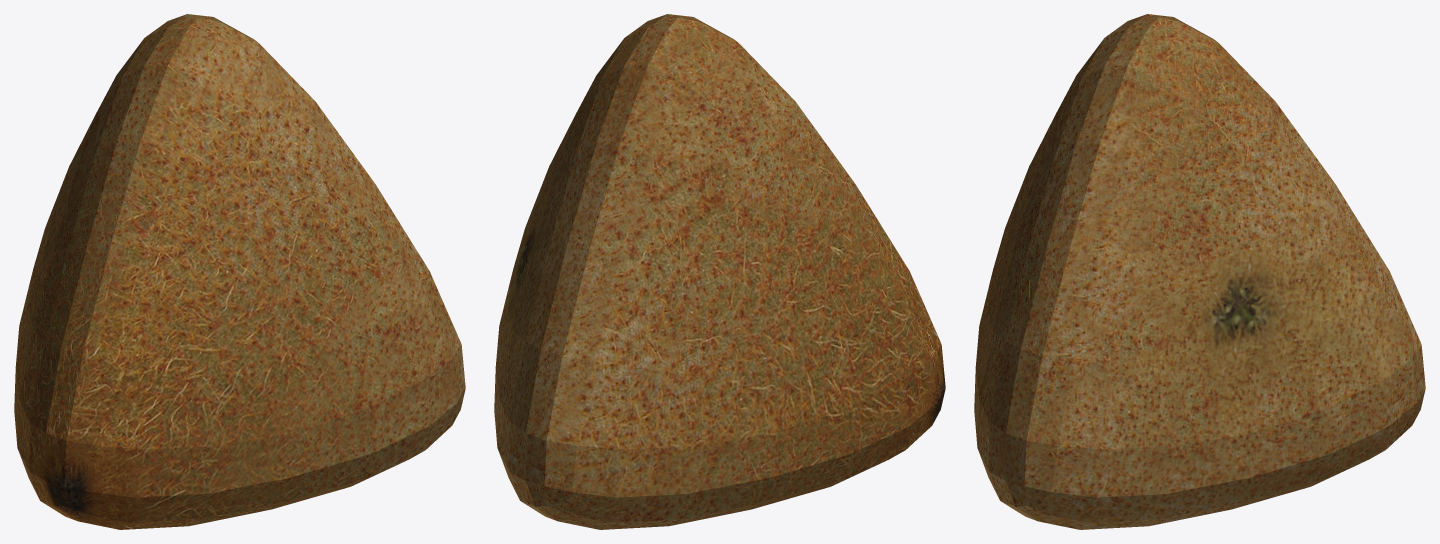
File: TrKiwi.fbx
The picture shows the model from 3 angles, left to right: view 1: azimuth 30°, elevation 25°; view 2: azimuth 150°, elevation 25°; view 3: azimuth 270°, elevation 25°; orthographic projection.
Visible parts, largest first — view 1: TrKiwi, TrKiwi_cell.002, TrKiwi_cell.003, TrKiwi_cell, TrKiwi_cell.001; view 2: TrKiwi, TrKiwi_cell.003, TrKiwi_cell.001, TrKiwi_cell; view 3: TrKiwi, TrKiwi_cell.001, TrKiwi_cell, TrKiwi_cell.002.
Boxes of the visible parts, x1,y1,x2,y2 form: TrKiwi: (14, 14, 465, 529); TrKiwi_cell.002: (160, 161, 402, 523); TrKiwi_cell.003: (14, 148, 197, 529); TrKiwi_cell: (289, 252, 465, 484); TrKiwi_cell.001: (80, 14, 357, 213); TrKiwi: (495, 14, 945, 529); TrKiwi_cell.003: (568, 144, 944, 521); TrKiwi_cell.001: (500, 20, 731, 484); TrKiwi_cell: (494, 326, 552, 519); TrKiwi: (974, 14, 1425, 529); TrKiwi_cell.001: (1041, 14, 1411, 407); TrKiwi_cell: (977, 323, 1403, 529); TrKiwi_cell.002: (975, 117, 1054, 379).
Size of the model in its own units: 8.83 by 9.33 by 8.4.
